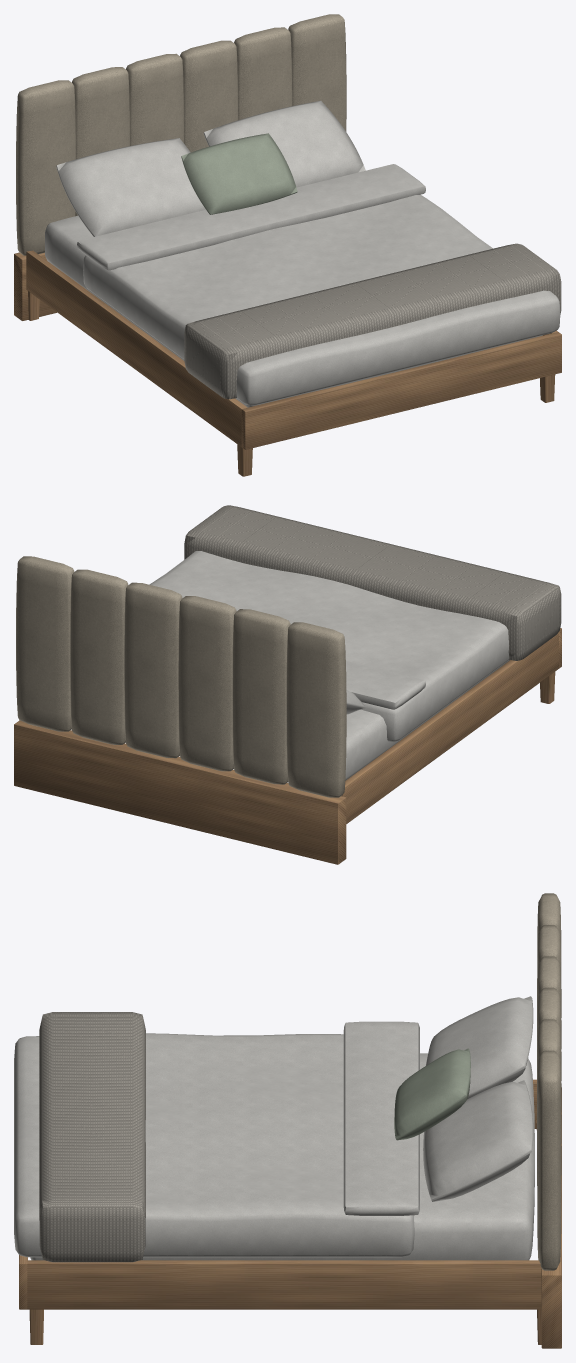
The model's file is double-bed.glb.
The picture shows the model from 3 angles, top to bottom: view 1: azimuth 30°, elevation 25°; view 2: azimuth 150°, elevation 25°; view 3: azimuth 270°, elevation 25°; orthographic projection. The views are drawn at different scales.
Parts seen in each view (by area): view 1: Double_Bed; view 2: Double_Bed; view 3: Double_Bed.
Boxes of the visible parts, <box> form: Double_Bed: <box>14,14,561,476</box>; Double_Bed: <box>14,505,561,864</box>; Double_Bed: <box>14,893,561,1348</box>.
Size of the model in its own units: 1.84 by 1.18 by 2.16.
Materials: 5 (5 with a texture image).
